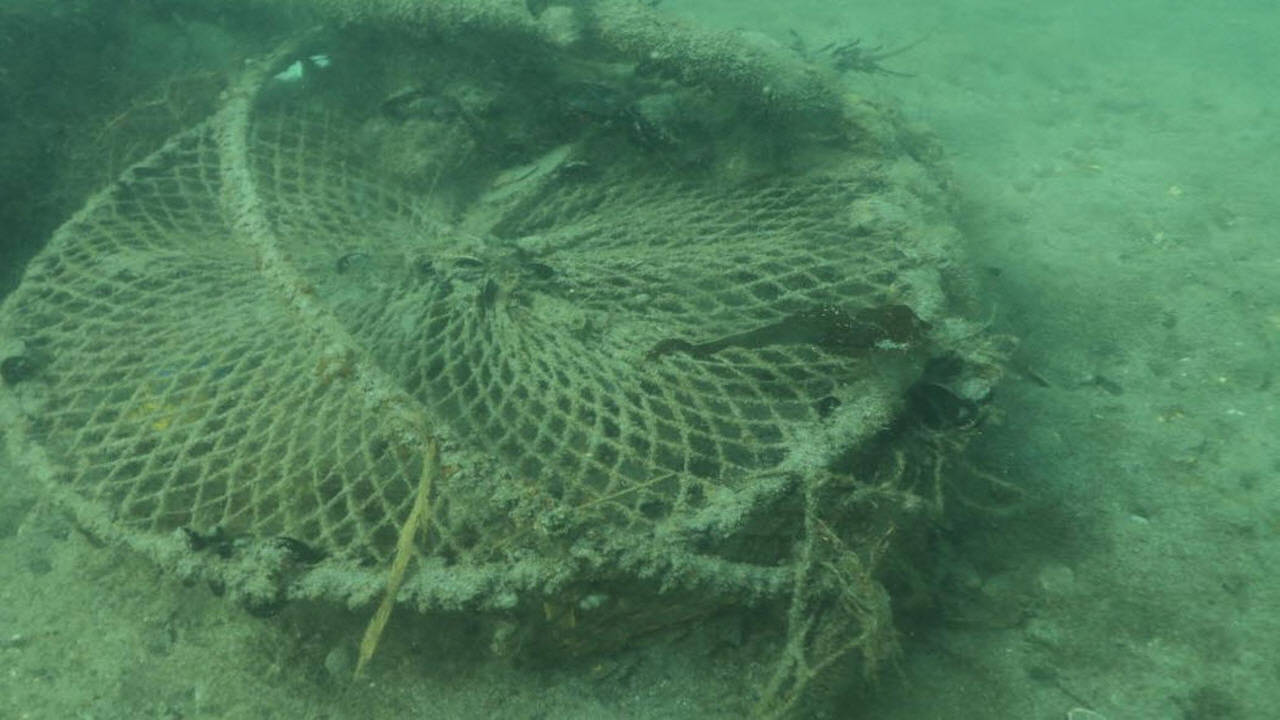circular fish trap: (0, 62, 925, 604)
